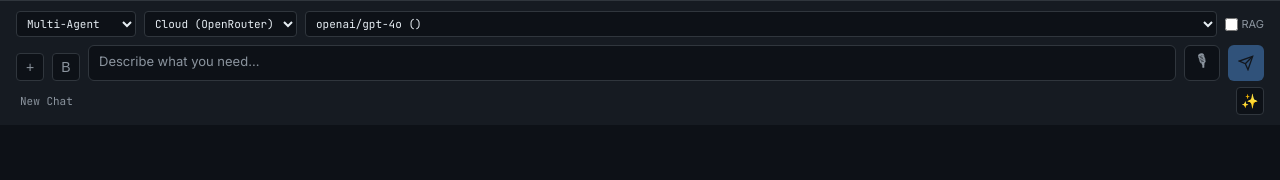
Test: ChatInput — C2 file upload via /api/upload › shows error chip when the server returns a non-OK status with a JSON body
Click the button titled "Upload local file": (30, 67) [16,53,44,81]
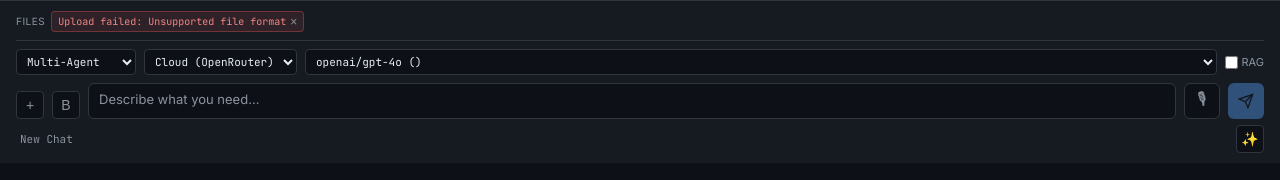
Expected: the message shows "Unsupported file format", [148,15,286,28]
